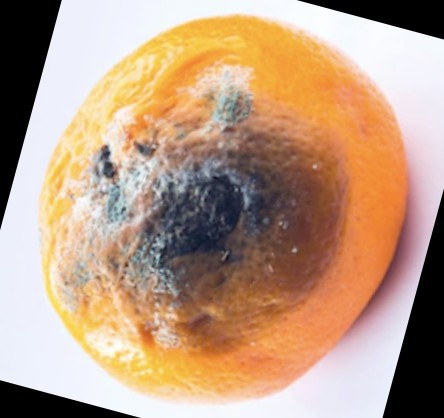rotten_orange: (40, 14, 410, 403)
